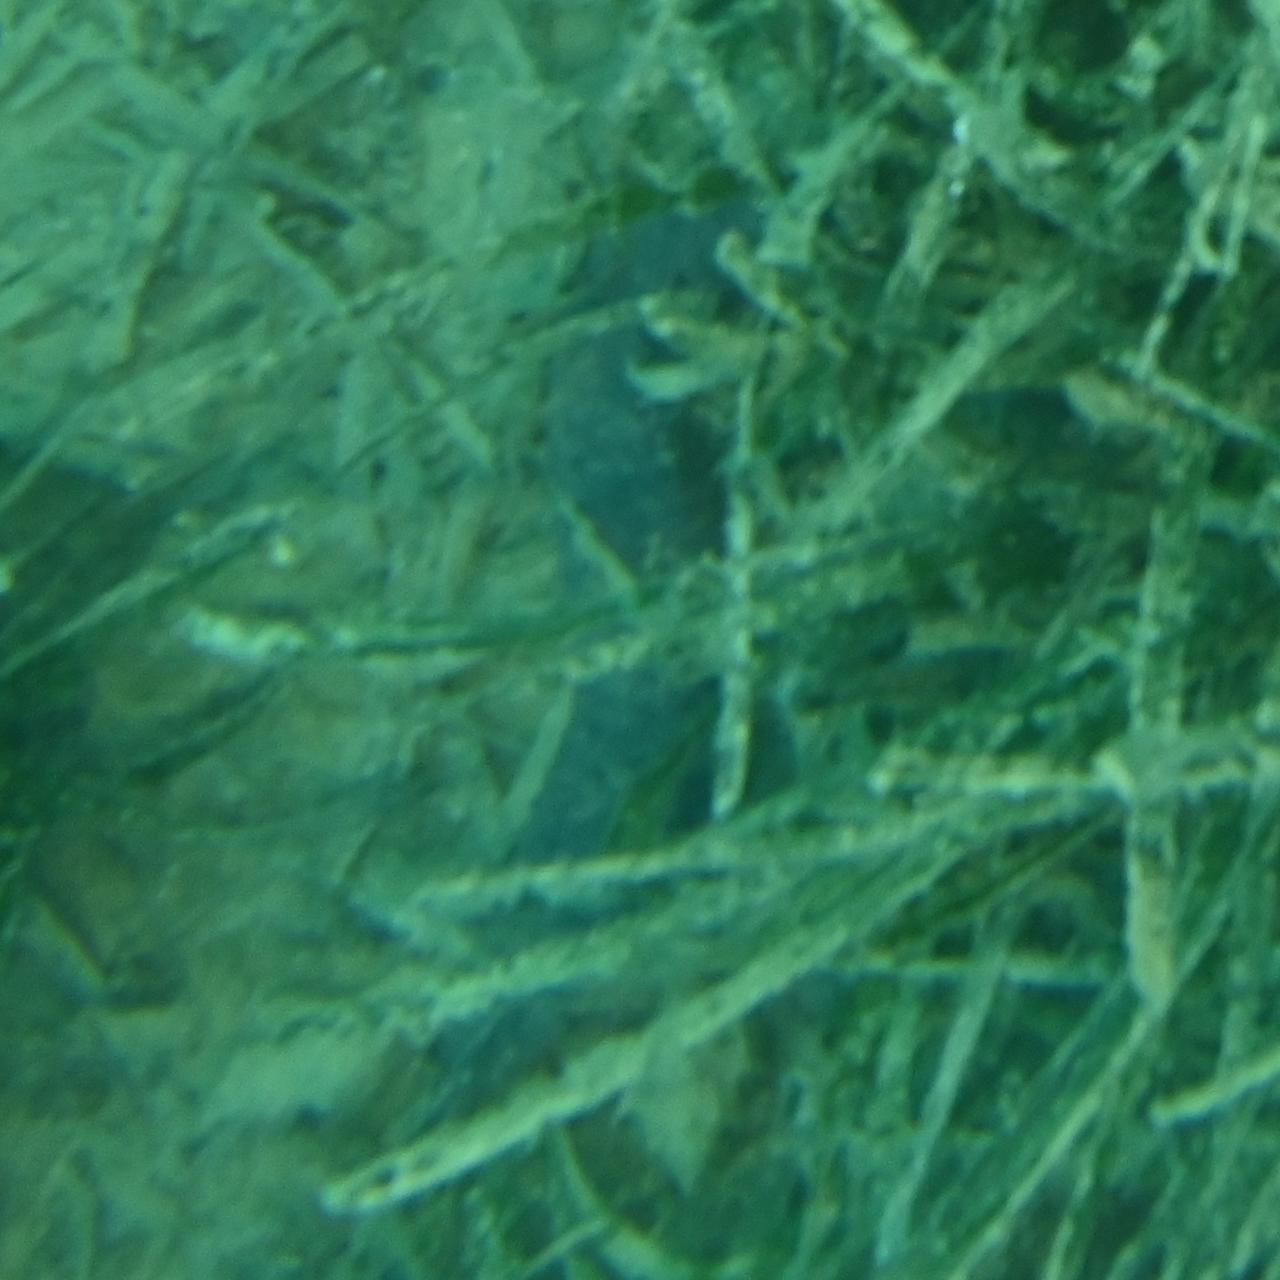Holothuria tubulosa: (420, 175, 860, 1105)
